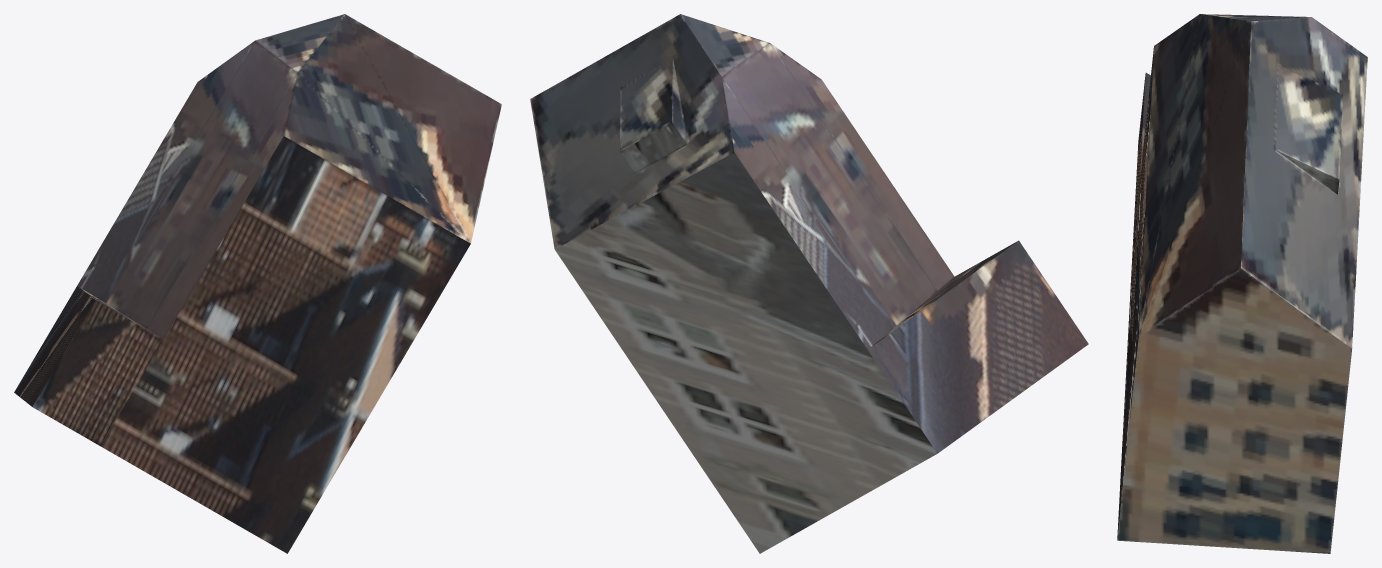
3 renders of one model, left to right at view 1: azimuth 30°, elevation 25°; view 2: azimuth 150°, elevation 25°; view 3: azimuth 270°, elevation 25°, orthographic. The views are drawn at different scales.
Parts seen in each view (by area): view 1: BAG_0599100000760362 (×6); view 2: BAG_0599100000760362 (×6); view 3: BAG_0599100000760362 (×6).
Boxes of the visible parts, <box> form: BAG_0599100000760362 (×6): <box>14,14,501,553</box>; BAG_0599100000760362 (×6): <box>530,14,1088,553</box>; BAG_0599100000760362 (×6): <box>1117,14,1367,553</box>.
Bounding box in the file's own units: 20.88 × 18.88 × 7.15.
1 material, 1 textured.
